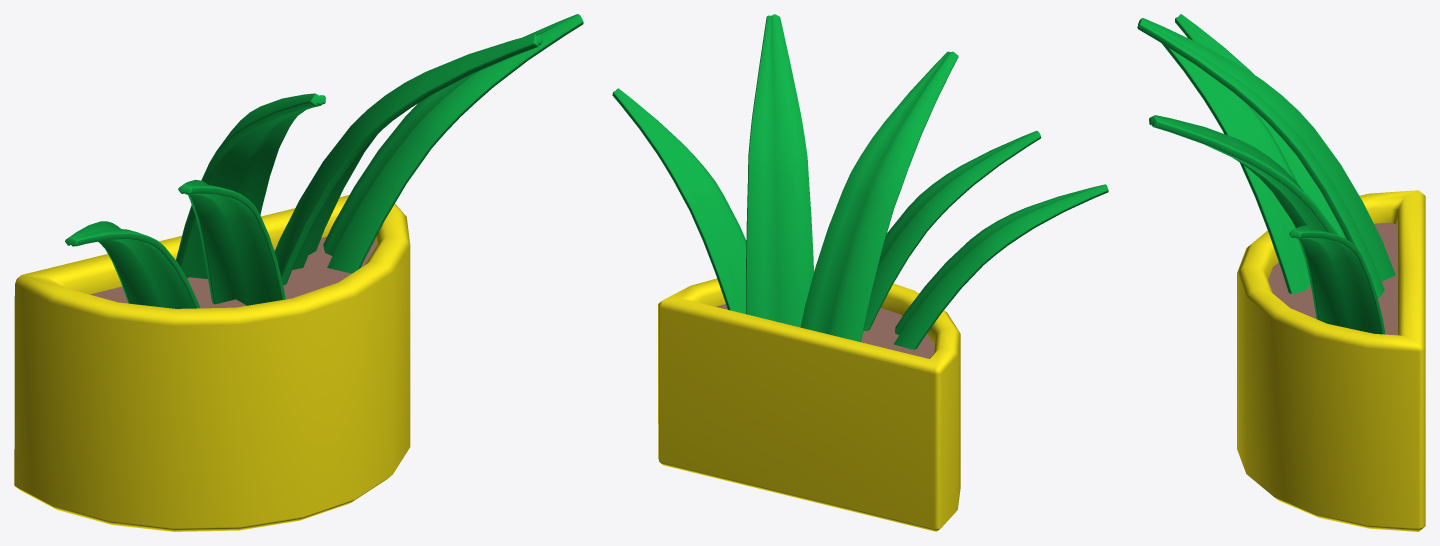
Rendered from Town_12_Plant_4.glb.
The picture shows the model from 3 angles, left to right: view 1: azimuth 30°, elevation 25°; view 2: azimuth 150°, elevation 25°; view 3: azimuth 270°, elevation 25°; orthographic projection. The views are drawn at different scales.
Visible parts, largest first — view 1: Town_12_Plant_4; view 2: Town_12_Plant_4; view 3: Town_12_Plant_4.
Boxes of the visible parts, box(x1,y1,x2,y2) form: Town_12_Plant_4: box(14, 14, 583, 531); Town_12_Plant_4: box(612, 14, 1108, 531); Town_12_Plant_4: box(1137, 14, 1425, 531).
Size of the model in its own units: 0.7713 by 0.6077 by 0.3782.
Materials: 1 (1 with a texture image).
